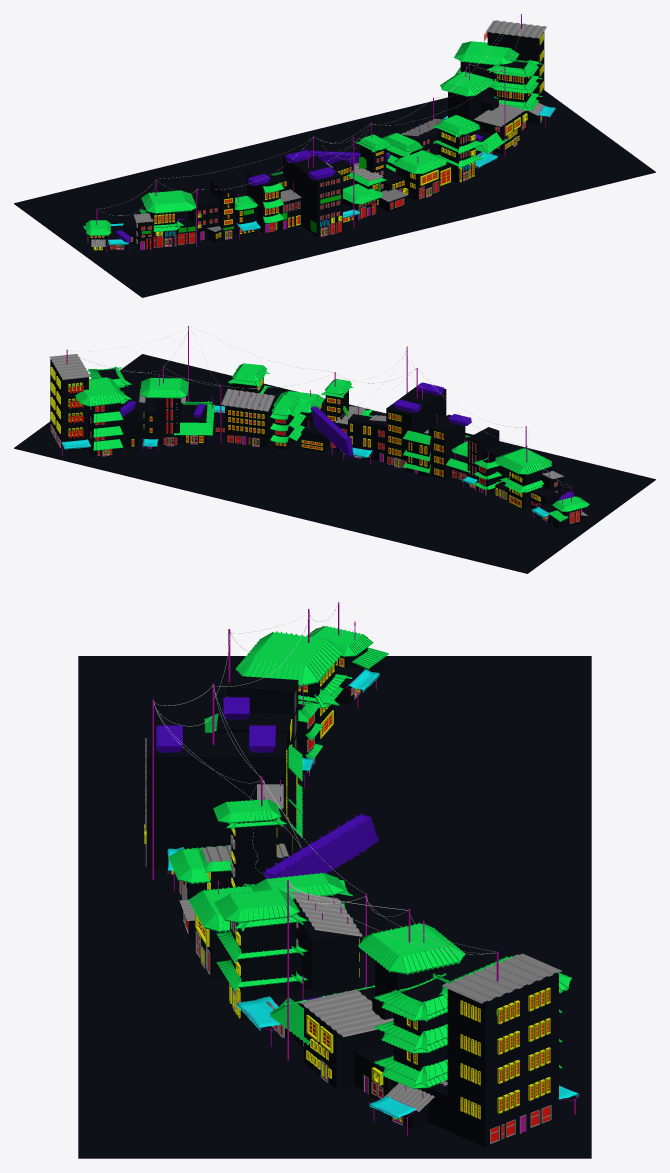
File: prueba ciudad con lamberts fbx peuqeña.FBX
3 renders of one model, top to bottom at view 1: azimuth 30°, elevation 25°; view 2: azimuth 150°, elevation 25°; view 3: azimuth 270°, elevation 25°, orthographic. The views are drawn at different scales.
Visible parts, largest first — view 1: Box1195, Layer:Capa 029, Box232, Box178, Box216, Box194, tejado de chapa005, tejado de chapa011, Box193, Box199, Box263, Box254; view 2: Box1195, Layer:Capa 029, Box232, Box178, Box216, Box263, tejado de chapa009, tejado de chapa005, Box199, Box215, Box194, Box254 (+1 smaller); view 3: Box1195, Layer:Capa 029, Box178, Box216, Box263, tejado de chapa005, tejado de chapa011, Box199, tejado de chapa009, Box254, Box194, Box212 (+4 smaller).
Boxes of the visible parts, x1=… form: Box1195: x1=14, y1=90, x2=655, y2=297; Layer:Capa 029: x1=88, y1=31, x2=544, y2=250; Box232: x1=454, y1=41, x2=519, y2=65; Box178: x1=141, y1=190, x2=197, y2=213; Box216: x1=440, y1=71, x2=494, y2=96; Box194: x1=394, y1=150, x2=447, y2=174; tejado de chapa005: x1=486, y1=20, x2=546, y2=38; tejado de chapa011: x1=474, y1=103, x2=525, y2=126; Box193: x1=343, y1=184, x2=382, y2=204; Box199: x1=438, y1=115, x2=479, y2=134; Box263: x1=309, y1=149, x2=390, y2=164; Box254: x1=381, y1=132, x2=422, y2=152; Box1195: x1=14, y1=354, x2=655, y2=573; Layer:Capa 029: x1=50, y1=359, x2=585, y2=529; Box232: x1=68, y1=377, x2=125, y2=406; Box178: x1=495, y1=448, x2=551, y2=474; Box216: x1=140, y1=377, x2=188, y2=398; Box263: x1=310, y1=405, x2=353, y2=457; tejado de chapa009: x1=221, y1=388, x2=274, y2=411; tejado de chapa005: x1=49, y1=354, x2=90, y2=379; Box199: x1=232, y1=363, x2=266, y2=382; Box215: x1=174, y1=422, x2=212, y2=435; Box194: x1=273, y1=390, x2=324, y2=413; Box254: x1=271, y1=394, x2=300, y2=415; Box1195: x1=78, y1=656, x2=591, y2=1158; Layer:Capa 029: x1=146, y1=648, x2=558, y2=1147; Box178: x1=235, y1=631, x2=342, y2=687; Box216: x1=358, y1=922, x2=465, y2=974; Box263: x1=262, y1=813, x2=378, y2=879; tejado de chapa005: x1=442, y1=953, x2=562, y2=1003; tejado de chapa011: x1=299, y1=989, x2=393, y2=1037; Box199: x1=214, y1=888, x2=299, y2=923; tejado de chapa009: x1=290, y1=891, x2=362, y2=936; Box254: x1=251, y1=872, x2=345, y2=899; Box194: x1=188, y1=885, x2=252, y2=932; Box212: x1=213, y1=798, x2=281, y2=823.
Size of the model in its own units: 49.85 by 8.43 by 21.58.
